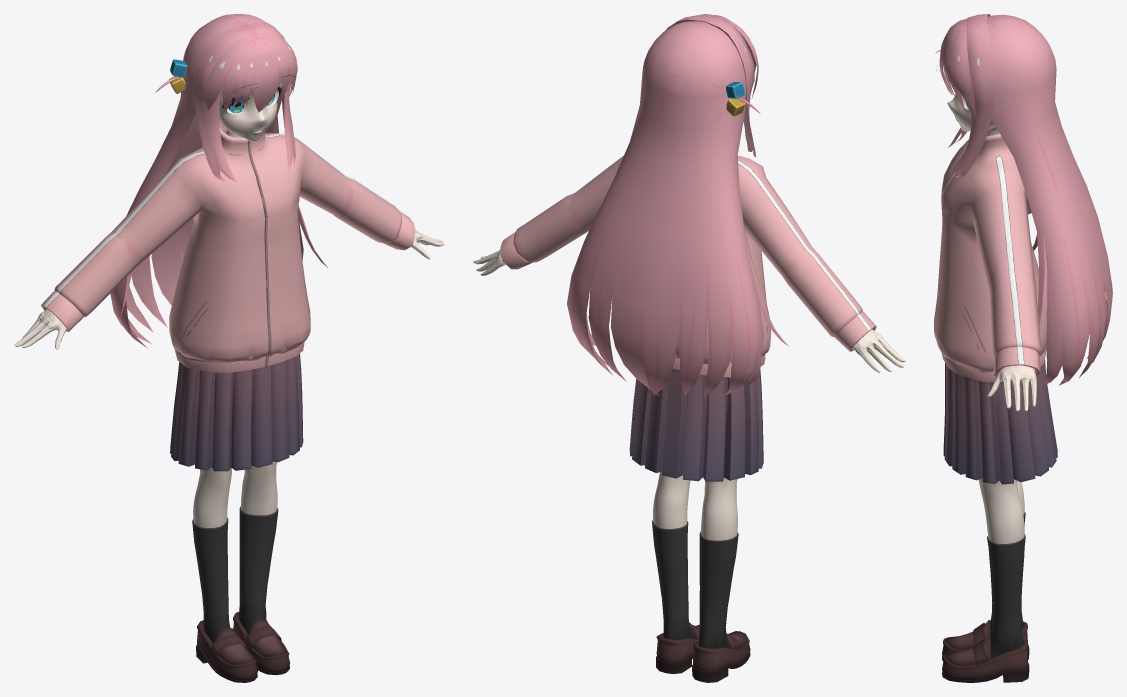
3 renders of one model, left to right at view 1: azimuth 30°, elevation 25°; view 2: azimuth 150°, elevation 25°; view 3: azimuth 270°, elevation 25°, orthographic.
Visible parts, largest first — view 1: 头发 服饰, 身体; view 2: 头发 服饰, 身体; view 3: 头发 服饰, 身体.
Boxes of the visible parts, bbox=[...] form: 头发 服饰: bbox=[41, 14, 415, 682]; 身体: bbox=[14, 73, 444, 643]; 头发 服饰: bbox=[500, 14, 876, 682]; 身体: bbox=[473, 250, 905, 648]; 头发 服饰: bbox=[934, 14, 1112, 682]; 身体: bbox=[947, 91, 1036, 658].
Size of the model in its own units: 175 by 250 by 62.46.
Materials: 3 (3 with a texture image).
